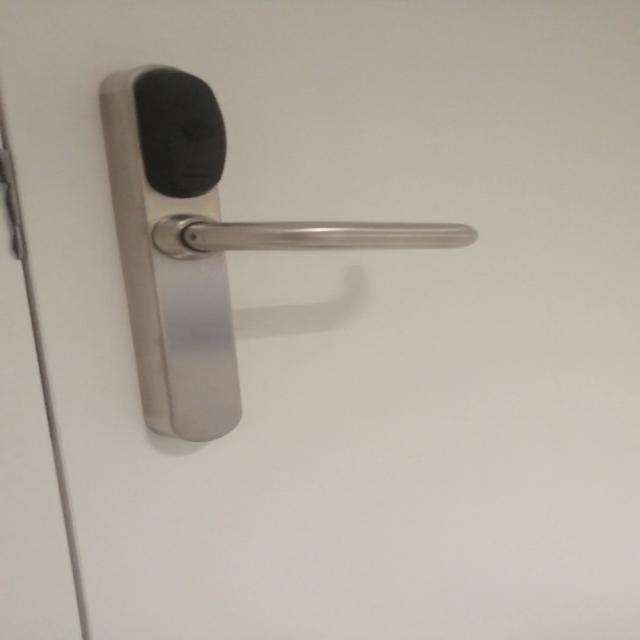door_handle: (133, 206, 492, 272)
